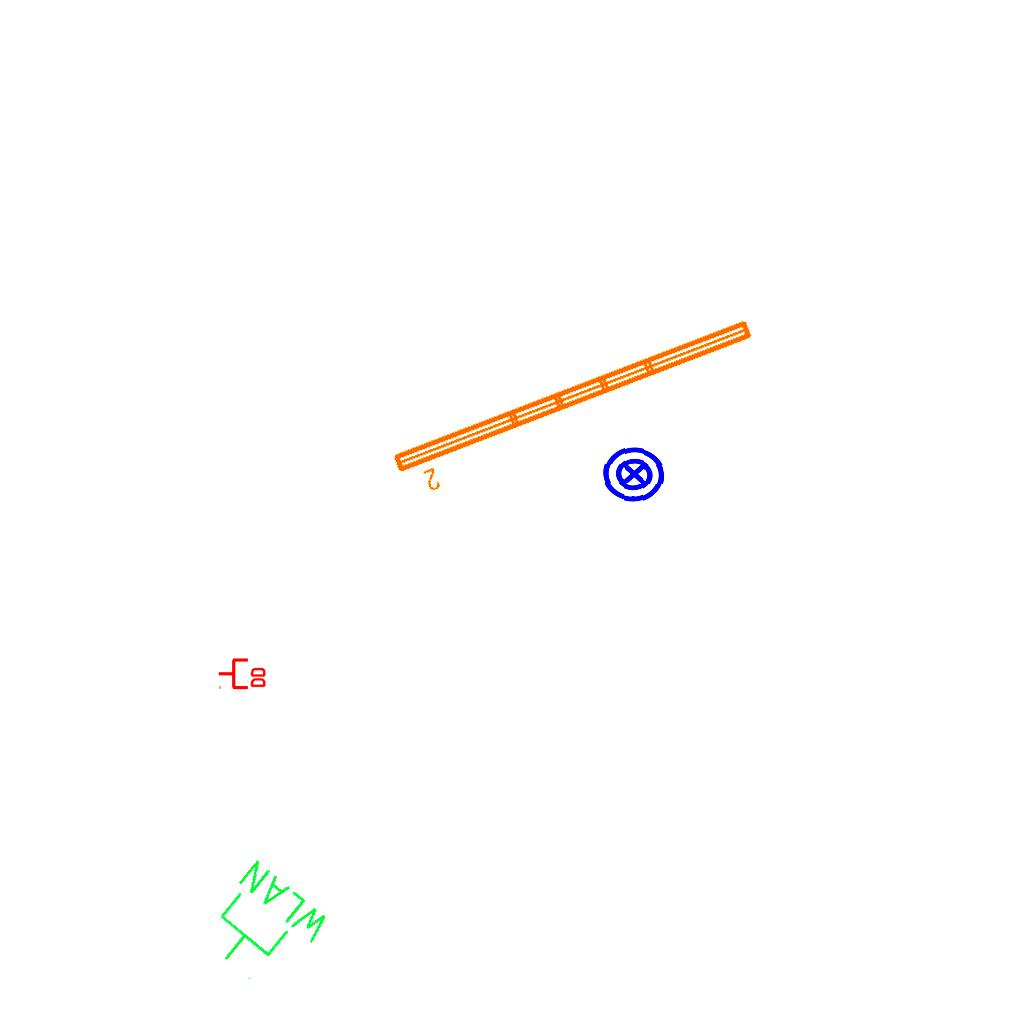Ambulanz_Pendelleuchte_LED: (386, 312, 769, 504)
Datenanschluss_zweifach: (217, 656, 268, 690)
Taster_beleuchtet: (599, 439, 669, 509)
WLAN: (190, 854, 338, 1001)
